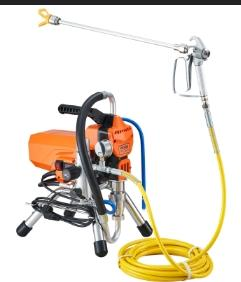PULVERISATEUR: (11, 0, 241, 282)
